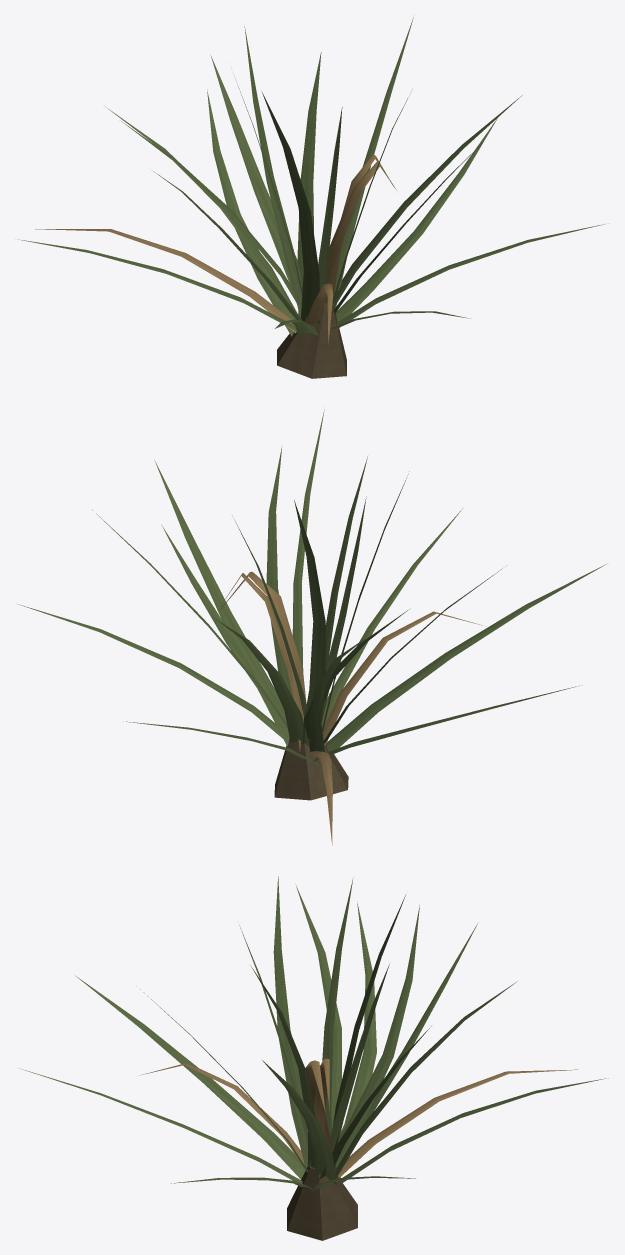
The model's file is SM_CN_Yucca_A_LOD1.fbx.
3 views of the same model, one above another, from view 1: azimuth 30°, elevation 25°; view 2: azimuth 150°, elevation 25°; view 3: azimuth 270°, elevation 25° (orthographic). The views are drawn at different scales.
Visible parts, largest first — view 1: SM_CN_Yucca_A_LOD1; view 2: SM_CN_Yucca_A_LOD1; view 3: SM_CN_Yucca_A_LOD1.
Boxes of the visible parts, left/top/right/bottom form: SM_CN_Yucca_A_LOD1: left=17, top=17, right=606, bottom=378; SM_CN_Yucca_A_LOD1: left=17, top=409, right=607, bottom=845; SM_CN_Yucca_A_LOD1: left=20, top=876, right=608, bottom=1240.
Size of the model in its own units: 1.32 by 1.32 by 0.78.
